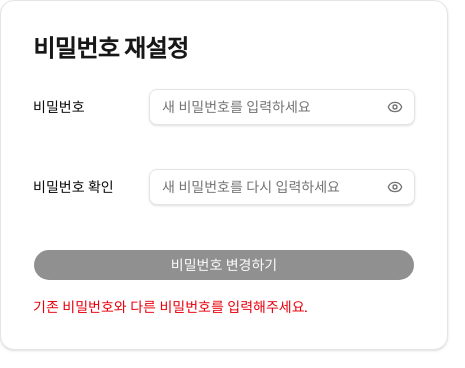
reset-password-form › same_password ATTEMPT root error는 password를 수정하면 제거한다
The width and height of the screenshot is (465, 368).
Expected: the text "기존 비밀번호와 다른 비밀번호를 입력해주세요." is shown, [33,298,307,316]
Type "changed-password" into the password field labelled "비밀번호". click: (282, 107)
box: [149,89,415,125]
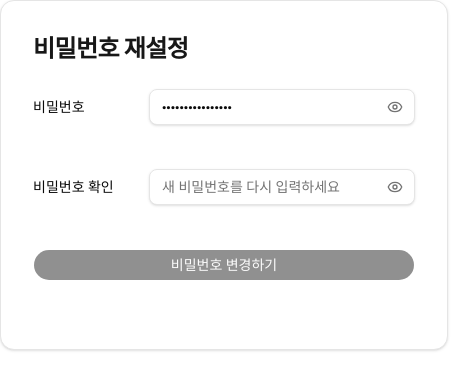
Expected: the text "기존 비밀번호와 다른 비밀번호를 입력해주세요." is gone
